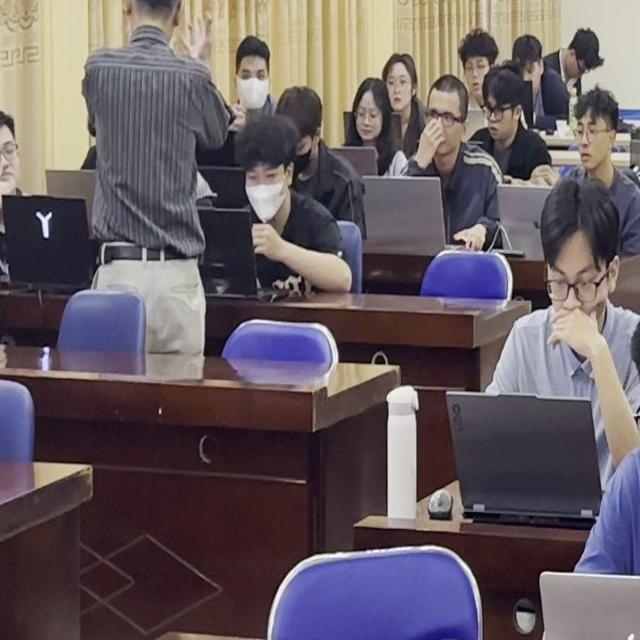Looking away: (541, 175, 614, 336), (240, 133, 296, 217), (478, 77, 521, 140), (578, 99, 610, 167), (0, 113, 24, 190), (354, 82, 385, 141)
Looking forward: (229, 44, 269, 110), (431, 83, 466, 154), (459, 32, 493, 97), (388, 50, 422, 104)
